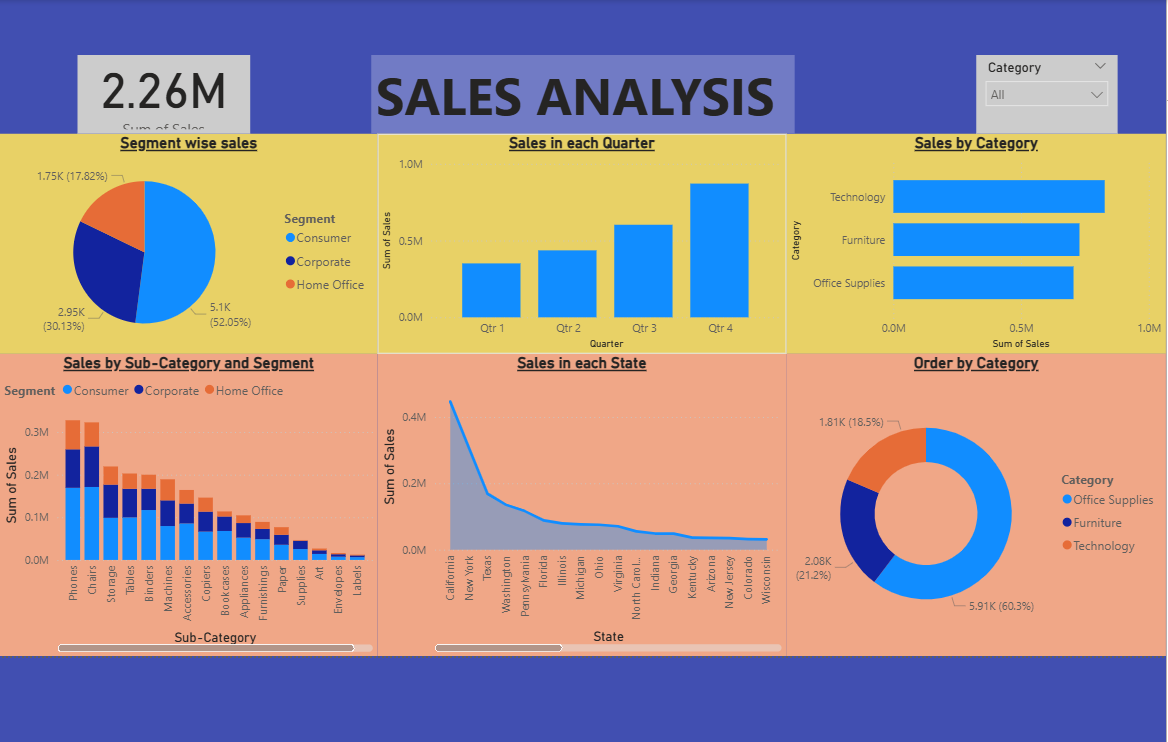

What the dashboard file says about the page in this screenshot:
{"tool":"powerbi","page":{"name":"Page 1","canvas":[1280,720],"ordinal":0},"visuals":[{"type":"barChart","title":" Sales by Category","fields":{"Y":["Sum(train.Sales)"],"Category":["train.Category"]},"box":[863.1,146.8,417.2,241.5],"z":0},{"type":"lineStackedColumnComboChart","title":"Sales by Sub-Category and Segment","fields":{"Category":["train.Sub-Category"],"Y":["Sum(train.Sales)"],"Series":["train.Segment"]},"box":[0,388.3,414.4,332.1],"z":1000},{"type":"areaChart","title":"Sales in each State","fields":{"Category":["train.State"],"Y":["Sum(train.Sales)"]},"box":[414.4,388.3,448.7,332.1],"z":2000},{"type":"pieChart","title":"Segment wise sales","fields":{"Category":["train.Segment"],"Y":["CountNonNull(train.Product Name)"]},"box":[0,146.8,414.4,241.5],"z":3000},{"type":"donutChart","title":"Order by Category","fields":{"Y":["CountNonNull(train.Order ID)"],"Category":["train.Category"]},"box":[863.1,388.3,417.2,332.1],"z":4000},{"type":"card","fields":{"Values":["Sum(train.Sales)"]},"box":[85.1,60.4,189.4,86.4],"z":5000},{"type":"slicer","fields":{"Values":["train.Category"]},"box":[1071.7,60.4,155.1,86.4],"z":6000},{"type":"textbox","box":[407.5,60.4,465.2,86.4],"z":7000},{"type":"clusteredColumnChart","title":" Sales in each Quarter","fields":{"Category":["train.Order Date.Variation.Date Hierarchy.Quarter"],"Y":["Sum(train.Sales)"]},"box":[414.4,146.8,448.7,241.5],"z":7001}]}

Visuals, with their boxes on the page's 1280x720 design canvas (x1, y1, x2, y2). These are canvas units, not pixel positions in the 1168x742 screenshot, which may show the page scaled, cropped or inside an application window:
" Sales by Category" barChart: locate(863, 147, 1280, 388)
"Sales by Sub-Category and Segment" lineStackedColumnComboChart: locate(0, 388, 414, 720)
"Sales in each State" areaChart: locate(414, 388, 863, 720)
"Segment wise sales" pieChart: locate(0, 147, 414, 388)
"Order by Category" donutChart: locate(863, 388, 1280, 720)
card - Sum(train.Sales): locate(85, 60, 274, 147)
slicer - train.Category: locate(1072, 60, 1227, 147)
textbox: locate(408, 60, 873, 147)
" Sales in each Quarter" clusteredColumnChart: locate(414, 147, 863, 388)
